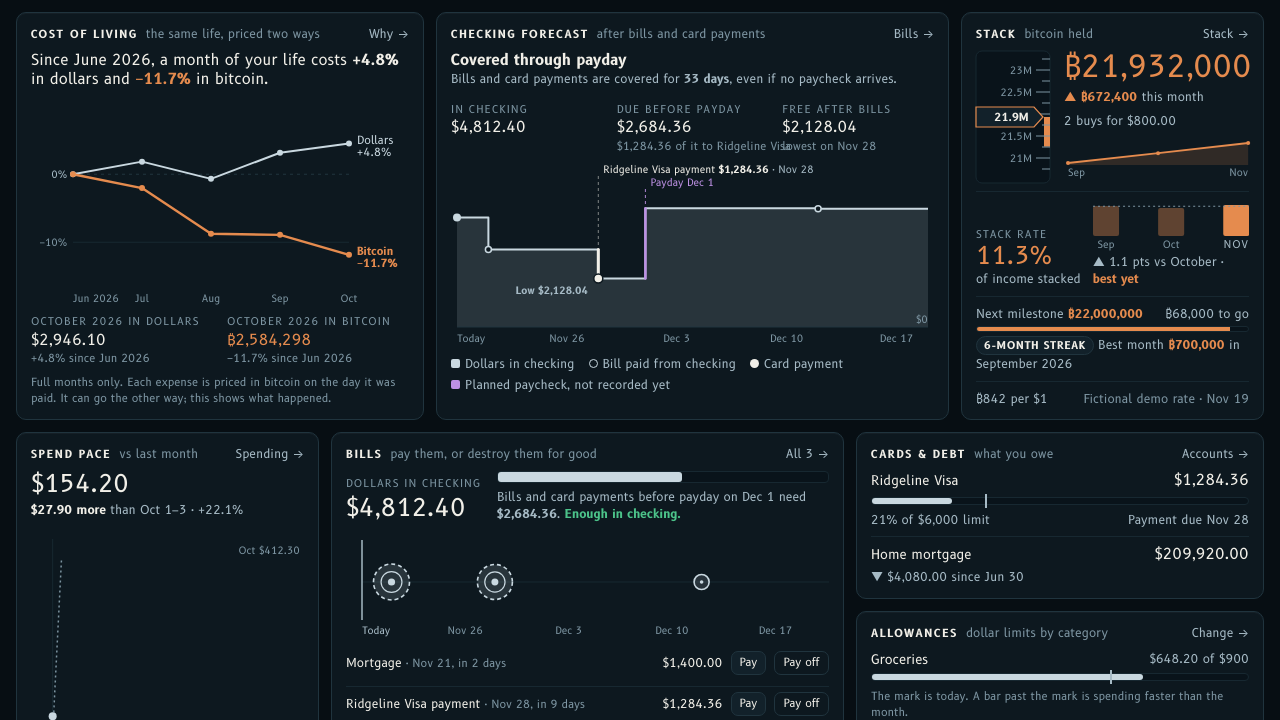
Scenario: dashboard › refuses to pay off a debt that checking cannot cover
This screenshot has width=1280, height=720.
expect the element labelled "Checking forecast" is shown: met, box [436,12,949,420]
What coordinates should you click on to do the following:
click the button with aria-label "Pay off Mortgage in full and destroy it"
I would click on:
 (802, 663)
Its box is [774,651,829,675].
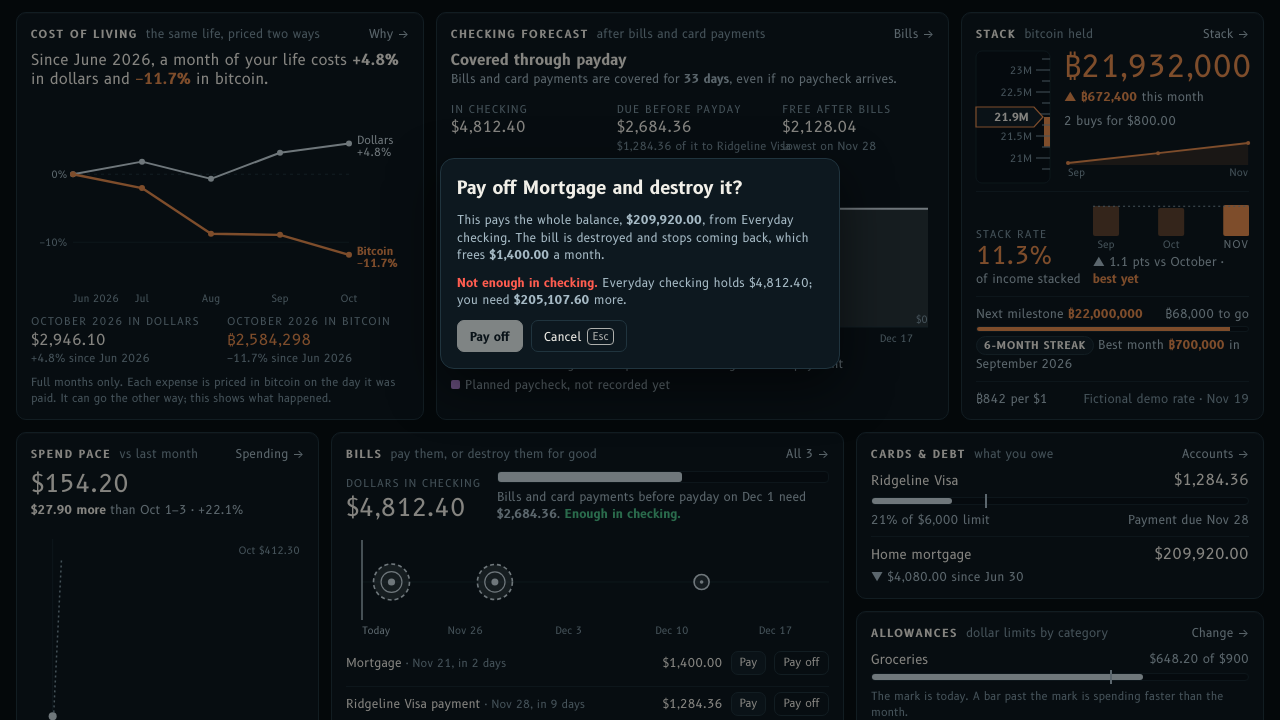
expect the text "Not enough in checking." is shown: met, box [457,275,598,290]
expect the text "$205,107.60" is shown: met, box [514,292,590,307]
expect the button "Pay off" is disabled: met, box [457,320,523,352]
